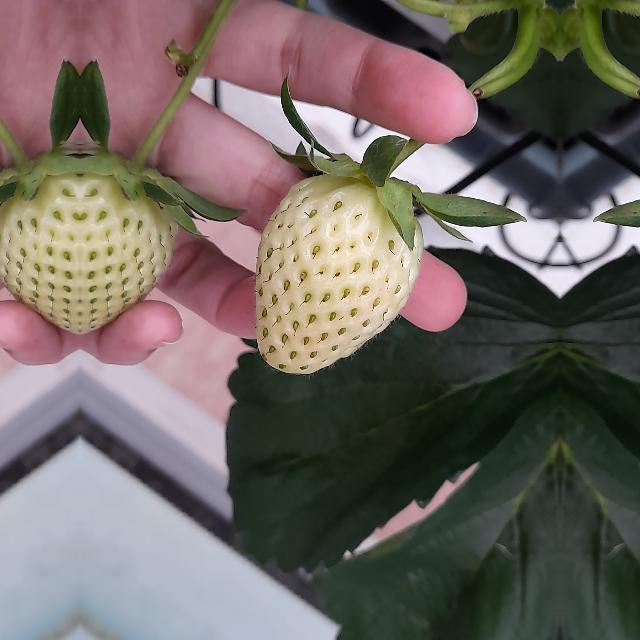Health_25: (254, 174, 423, 374), (80, 144, 174, 350), (0, 143, 80, 350)
